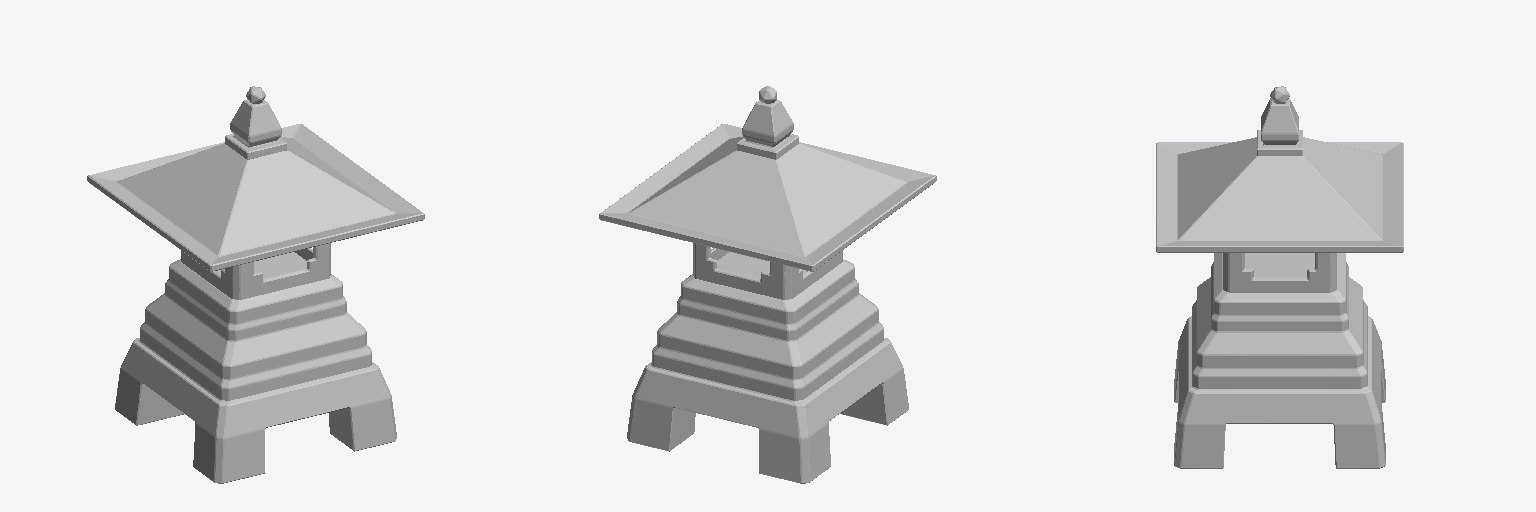
File: decor.obj
3 renders of one model, left to right at view 1: azimuth 30°, elevation 25°; view 2: azimuth 150°, elevation 25°; view 3: azimuth 270°, elevation 25°, orthographic.
Parts seen in each view (by area): view 1: decor; view 2: decor; view 3: decor.
Part boxes in pixels (x1,y1,x2,y2): decor: (87,86,424,483); decor: (599,86,936,483); decor: (1156,86,1403,468).
Bounding box in the file's own units: 2.94 × 4.41 × 2.94.